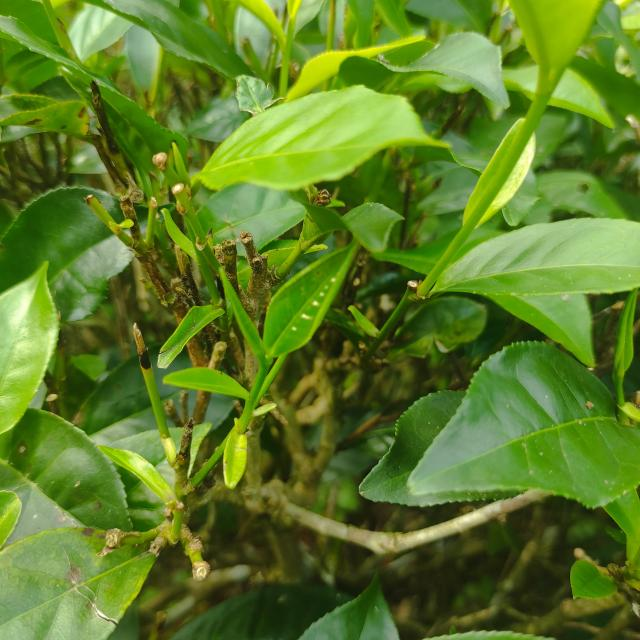unopened_leaf: (208, 257, 273, 364), (165, 140, 195, 193)
